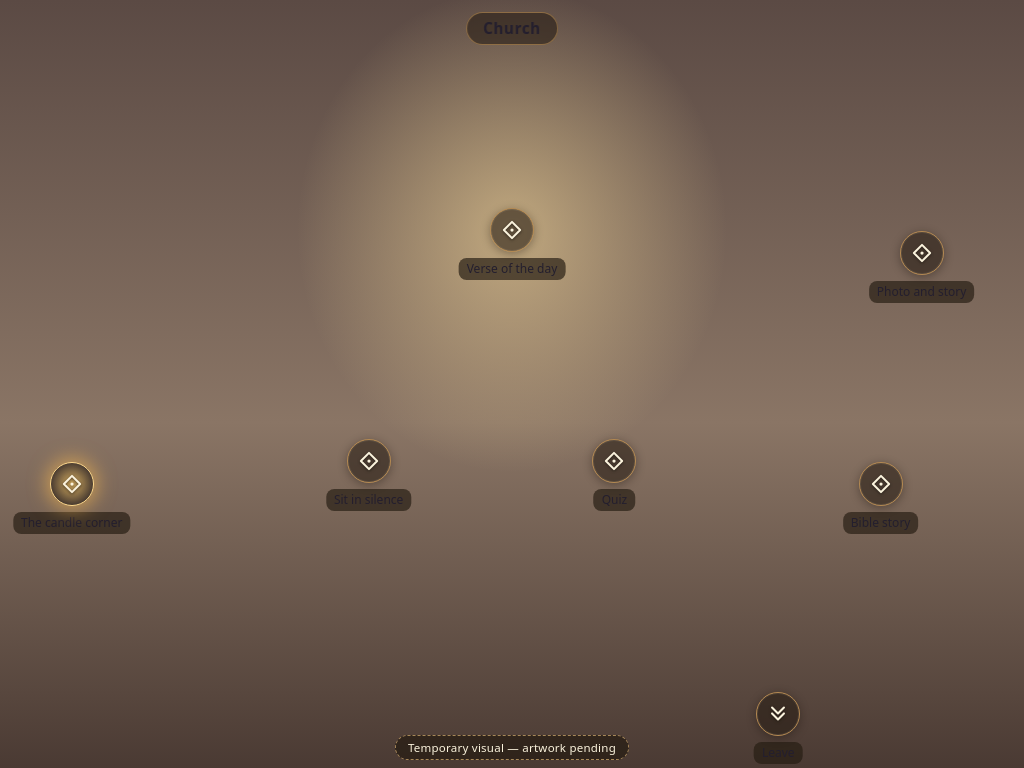
Test: Church interior › selects a candle via its chip (not the light/extinguish tap) and removes it with Remove selected candle
Click the button with test id "church-candle-corner".
click(72, 484)  # box [50,462,94,506]
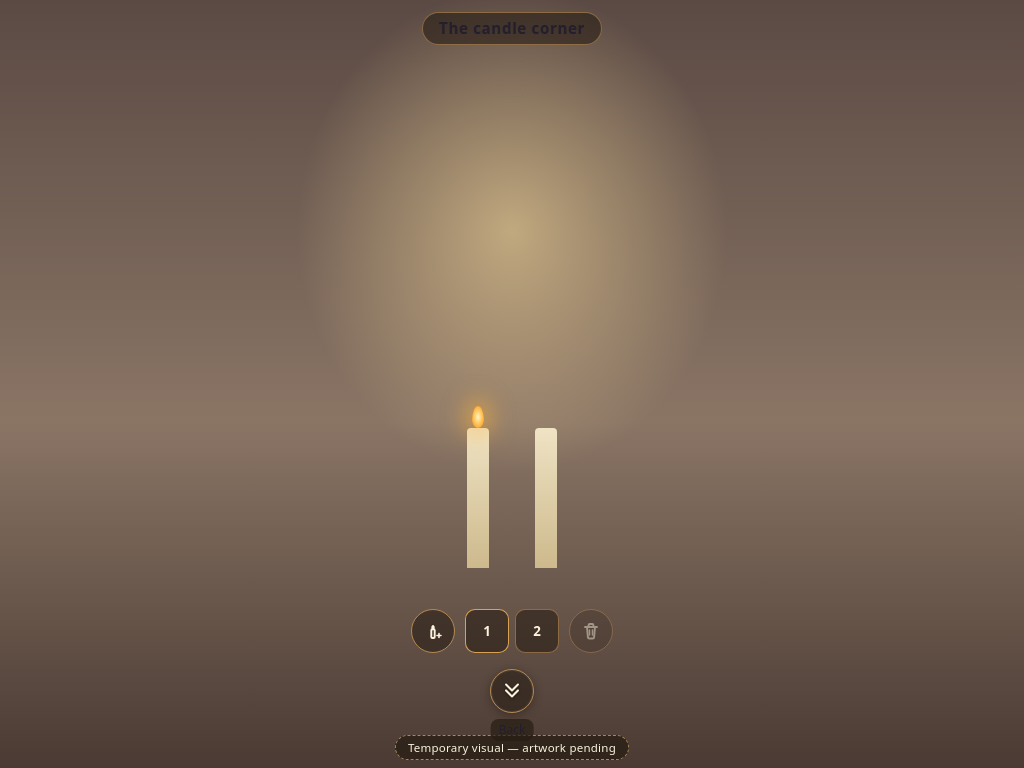
Expected: the button with test id "candle-candle_1" is shown, [456,428,500,568]
Expected: the button with test id "candle-remove" is disabled, [569,609,613,653]
Click the button with test id "candle-select-candle_1".
click(487, 631)  # box [465,609,509,653]
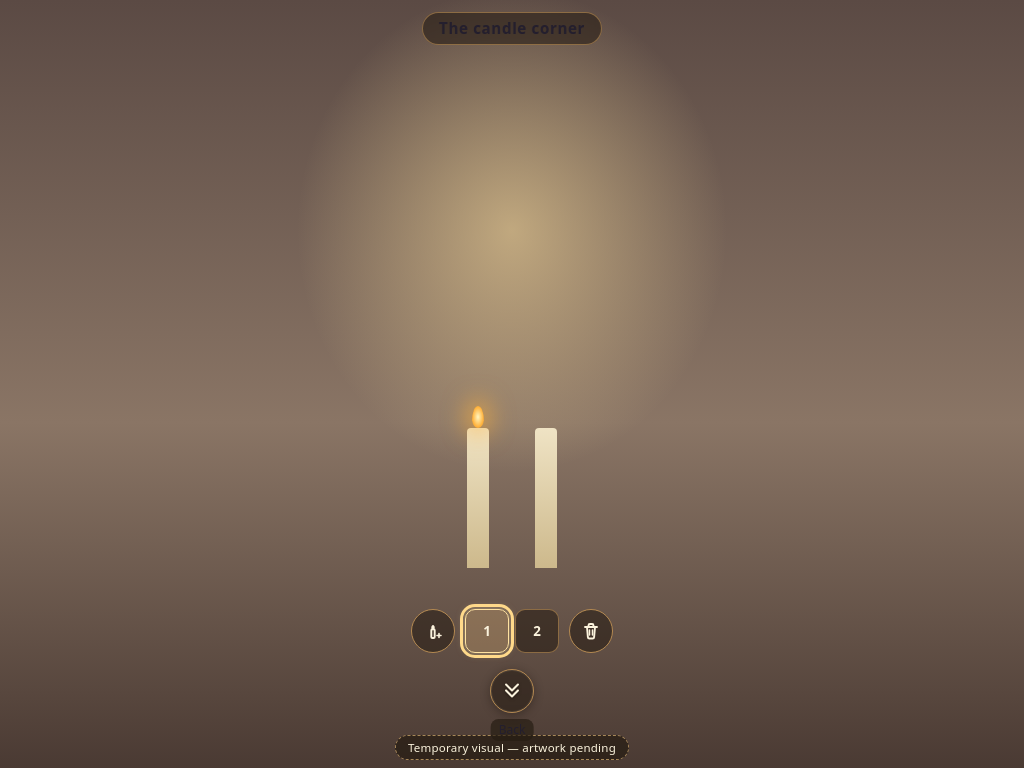
Expected: the button with test id "candle-remove" is enabled
Click the button with test id "candle-remove".
click(591, 631)  # box [569,609,613,653]
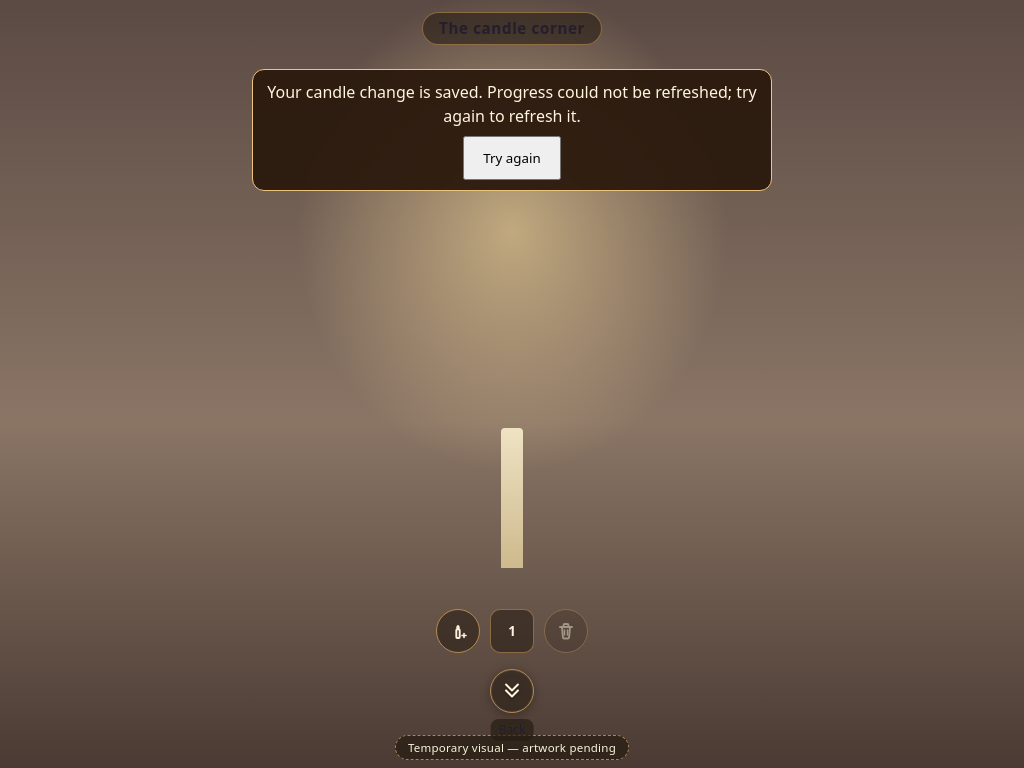
Expected: the button with test id "candle-candle_1" is gone
